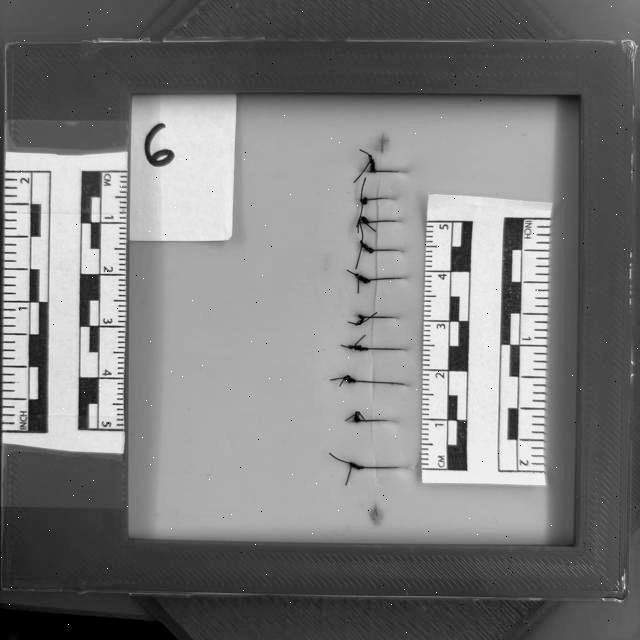incision_line: (360, 141, 387, 516)
scale_marker: (424, 272, 446, 320)
suture_d: (362, 420, 384, 466), (363, 380, 381, 420), (371, 218, 389, 250), (369, 278, 383, 317), (366, 314, 382, 348), (366, 346, 382, 380), (371, 169, 388, 198), (371, 250, 388, 278), (369, 198, 385, 220)
suture_l: (352, 379, 374, 386), (358, 464, 376, 472), (349, 418, 372, 424), (361, 168, 381, 174), (360, 196, 378, 202), (359, 314, 373, 320), (359, 346, 372, 352), (365, 218, 377, 224), (364, 277, 376, 281), (369, 247, 376, 253)
suture_r: (374, 380, 408, 388), (376, 464, 410, 472), (372, 346, 410, 352), (381, 168, 409, 175), (374, 314, 402, 320), (377, 248, 403, 254), (372, 418, 398, 424), (376, 276, 407, 281), (378, 218, 403, 224), (378, 196, 400, 202)
